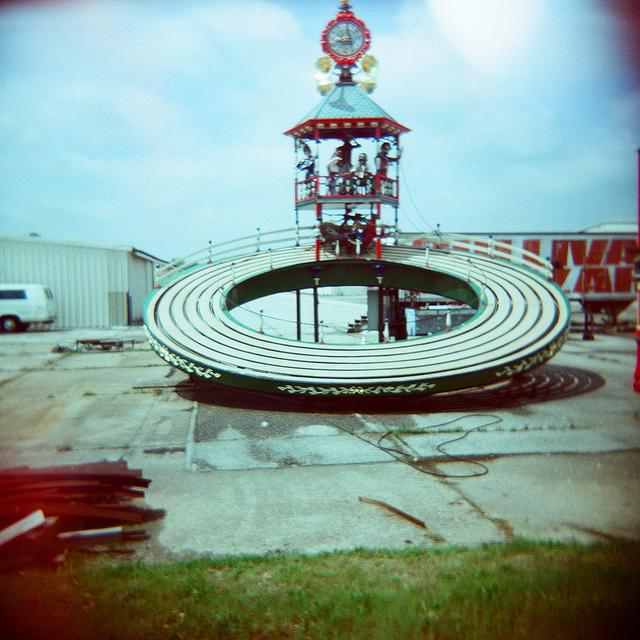Vehicle: (1, 282, 56, 333)
